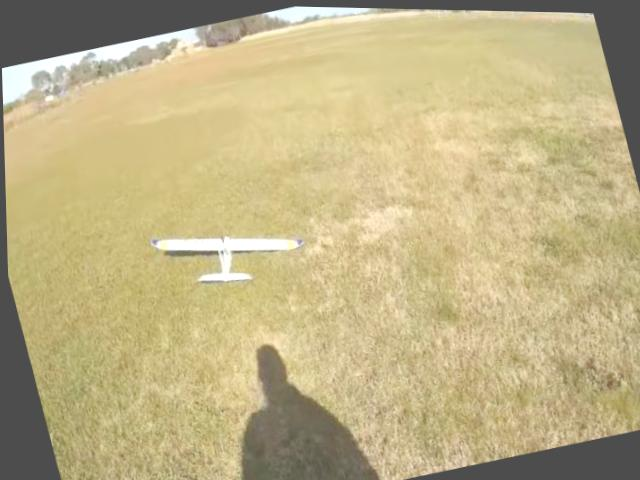uav: (138, 190, 318, 309)
